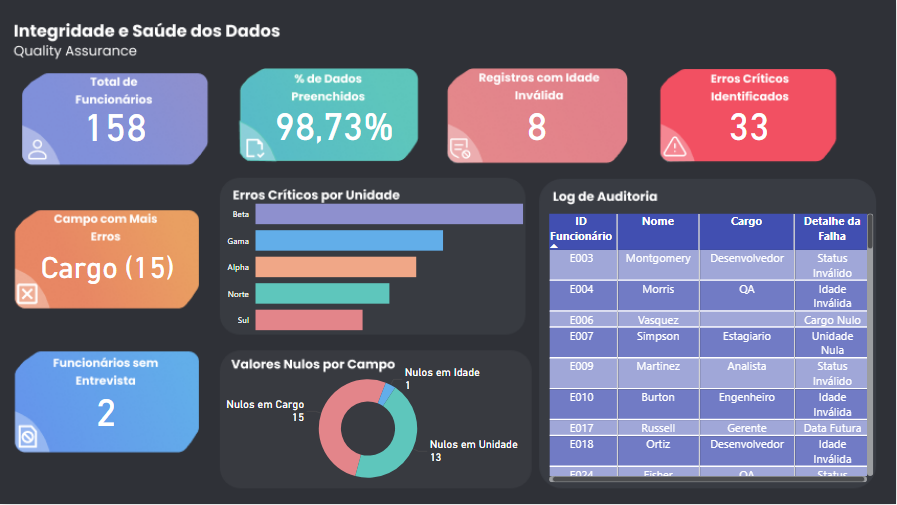

The page's visual inventory and layout, read from the dashboard file:
{"tool":"powerbi","page":{"name":"Data Quality & Integridade","canvas":[1280,720],"ordinal":1},"visuals":[{"type":"cardVisual","fields":{"Data":["Base funcionarios.Total Funcionários"]},"box":[24.3,90,280,175.7],"z":0},{"type":"cardVisual","fields":{"Data":["Base funcionarios.Funcionários Sem Resposta"]},"box":[14.3,497.1,274.3,177.1],"z":1000},{"type":"cardVisual","fields":{"Data":["Base funcionarios.% Saúde dos Dados"]},"box":[337.1,87.1,280,178.6],"z":2000},{"type":"cardVisual","fields":{"Data":["Base funcionarios.Alertas Críticos"]},"box":[931.4,87.1,278.6,178.6],"z":3000},{"type":"barChart","fields":{"Y":["Base funcionarios.Alertas Críticos"],"Category":["Base funcionarios.Unidade"]},"box":[315.7,262.9,437.1,230],"z":4000},{"type":"donutChart","fields":{"Y":["Base funcionarios.Nulos em Cargo","Base funcionarios.Nulos em Idade","Base funcionarios.Nulos em Unidade"]},"box":[298.6,517.1,454.3,190],"z":5000},{"type":"tableEx","fields":{"Values":["Base funcionarios.id_integrante","Base funcionarios.Nome","Base funcionarios.Cargo","Base funcionarios.Detalhe da Falha"]},"box":[778.6,300,474.3,394.3],"z":6000},{"type":"cardVisual","fields":{"Data":["Base funcionarios.Insight_Campo_Mais_Erros"]},"box":[14.3,288.6,277.1,178.6],"z":6001},{"type":"cardVisual","fields":{"Data":["Base funcionarios.Registros_Idade_Invalida"]},"box":[657.1,95.7,220,161.4],"z":6002}]}

Visuals, with their boxes in screenshot pixels (x1, y1, x2, y2), scaled from the page's 1280x720 canvas onto the 897x505 screenshot:
cardVisual - Base funcionarios.Total Funcionários: [17, 63, 213, 186]
cardVisual - Base funcionarios.Funcionários Sem Resposta: [10, 349, 202, 473]
cardVisual - Base funcionarios.% Saúde dos Dados: [236, 61, 432, 186]
cardVisual - Base funcionarios.Alertas Críticos: [653, 61, 848, 186]
barChart - Base funcionarios.Alertas Críticos x Base funcionarios.Unidade: [221, 184, 528, 346]
donutChart - Base funcionarios.Nulos em Cargo x Base funcionarios.Nulos em Idade: [209, 363, 528, 496]
tableEx - Base funcionarios.id_integrante x Base funcionarios.Nome: [546, 210, 878, 487]
cardVisual - Base funcionarios.Insight_Campo_Mais_Erros: [10, 202, 204, 328]
cardVisual - Base funcionarios.Registros_Idade_Invalida: [460, 67, 615, 180]
